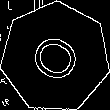O_SE: (24, 26, 87, 88)
